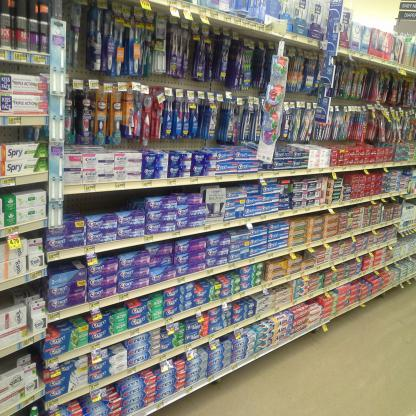Void: (66, 196, 142, 212)
